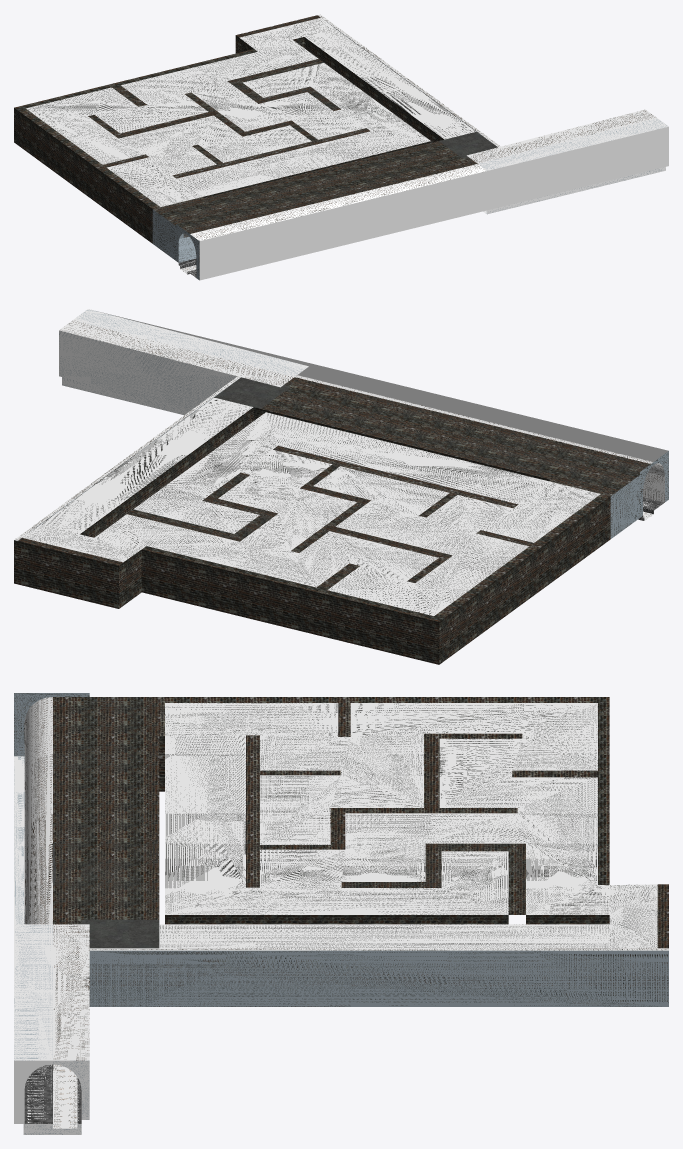
The model's file is Metro1.fbx.
3 views of the same model, one above another, from view 1: azimuth 30°, elevation 25°; view 2: azimuth 150°, elevation 25°; view 3: azimuth 270°, elevation 25° (orthographic). The views are drawn at different scales.
Parts seen in each view (by area): view 1: Model, Group1; view 2: Model, Group1; view 3: Model, Group1.
Part boxes in pixels (x1=…): Model: x1=14, y1=14, x2=668, y2=280; Group1: x1=26, y1=18, x2=475, y2=206; Model: x1=14, y1=309, x2=668, y2=664; Group1: x1=22, y1=397, x2=600, y2=615; Model: x1=14, y1=693, x2=668, y2=1134; Group1: x1=159, y1=703, x2=657, y2=948.
Size of the model in its own units: 46.98 by 4.43 by 35.39.
